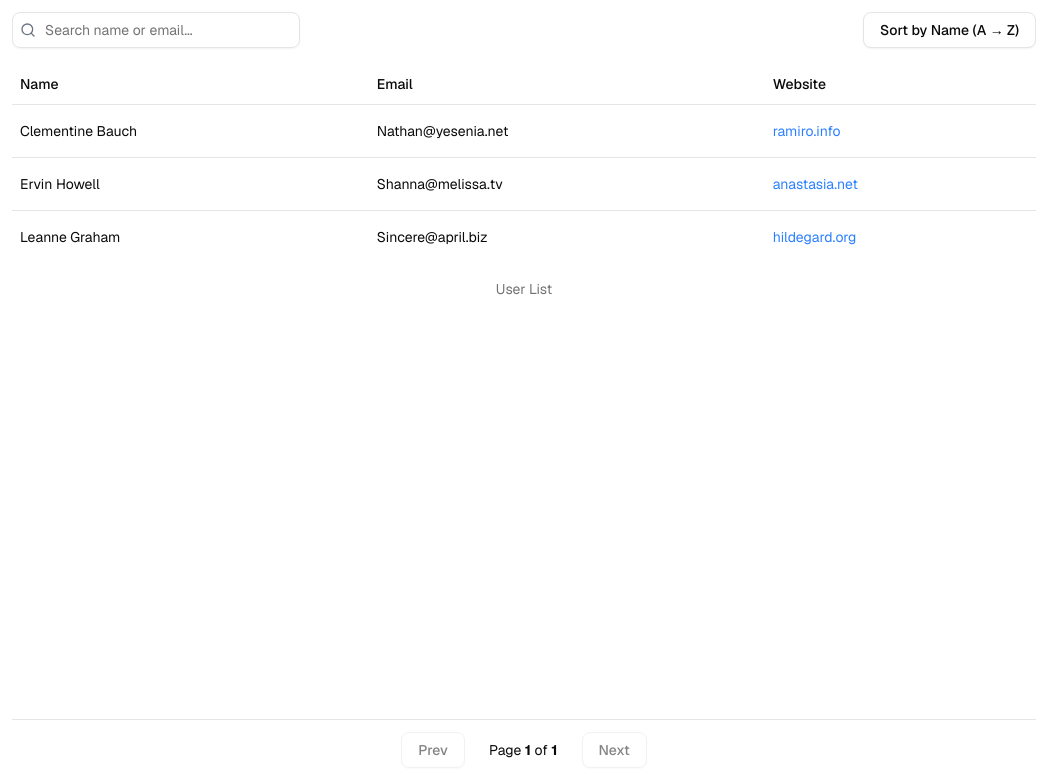
UsersTable › filters users based on search input
The width and height of the screenshot is (1048, 780).
# cari "Leanne"
Type "Leanne" into the field with placeholder "Search name or email..." at [156, 30], box [12,12,300,48]
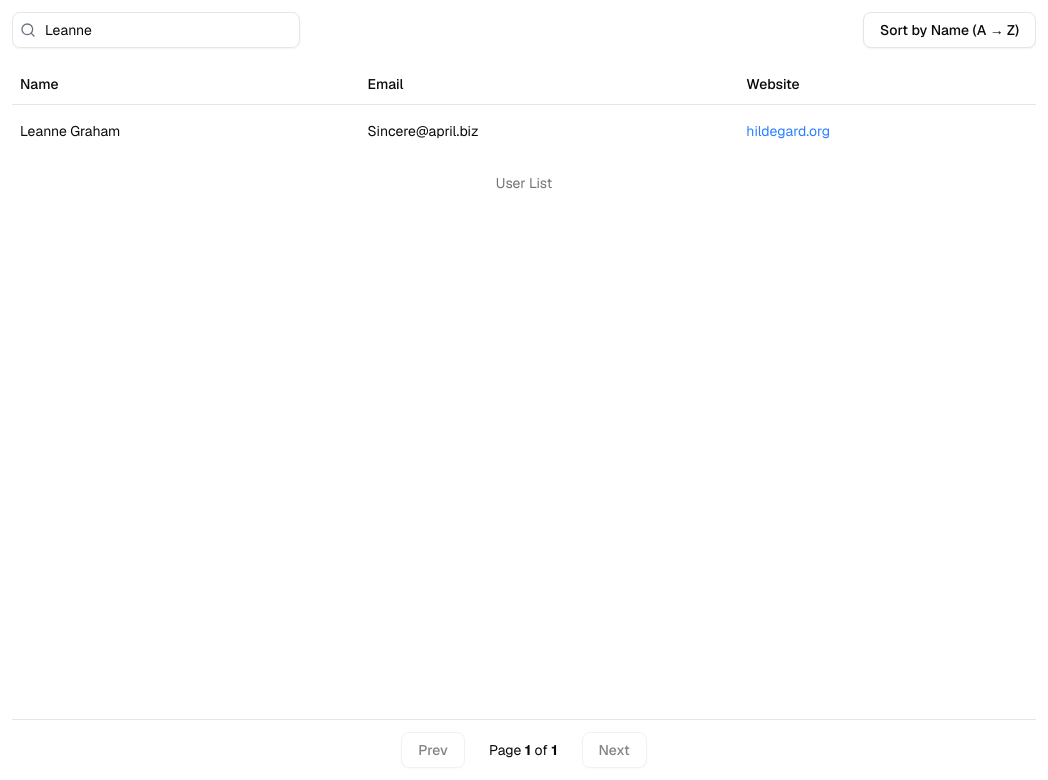
expect the button with test id "desktop-user-row-1" shows "Leanne Graham": met, box [12,104,1036,156]
expect the button with test id "desktop-user-row-2" is gone: met
expect the button with test id "desktop-user-row-3" is gone: met
# reset search - semua muncul
Clear the field with placeholder "Search name or email..." at [156, 30], box [12,12,300,48]
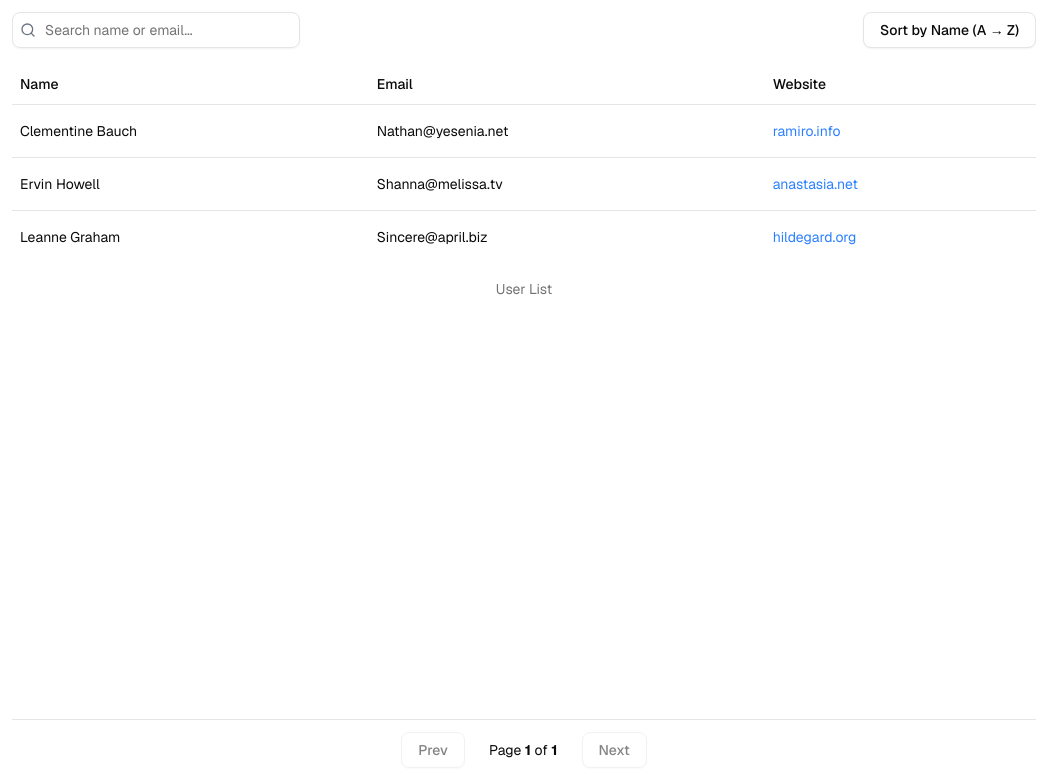
expect the button with test id "desktop-user-row-1" is shown: met, box [12,210,1036,262]
expect the button with test id "desktop-user-row-2" is shown: met, box [12,157,1036,210]
expect the button with test id "desktop-user-row-3" is shown: met, box [12,104,1036,157]
